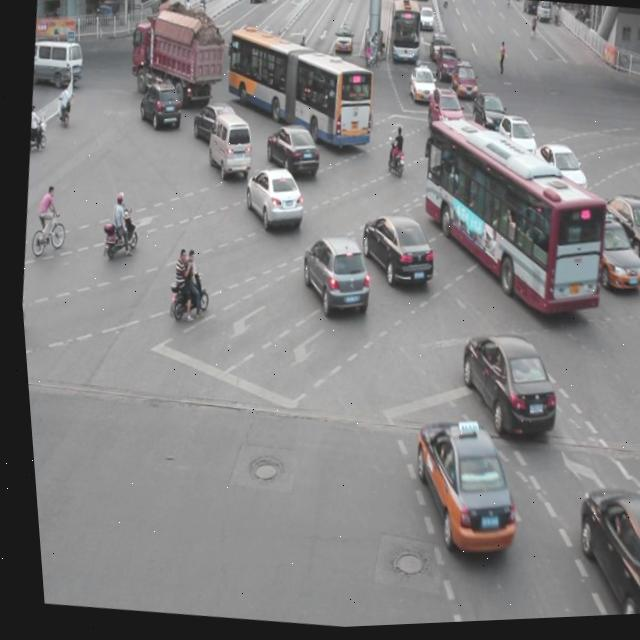bus: (125, 17, 227, 110)
car: (395, 415, 520, 559), (445, 329, 557, 444), (556, 486, 640, 622), (290, 234, 372, 323), (351, 211, 435, 292), (570, 218, 640, 300), (237, 163, 305, 235), (590, 194, 640, 278), (524, 142, 588, 206), (259, 122, 321, 180), (135, 80, 184, 133), (464, 139, 513, 192), (489, 116, 536, 165), (188, 100, 236, 147), (422, 89, 466, 140), (466, 94, 509, 141)
truck: (201, 111, 255, 179)
van: (406, 115, 615, 324), (217, 25, 381, 157)
